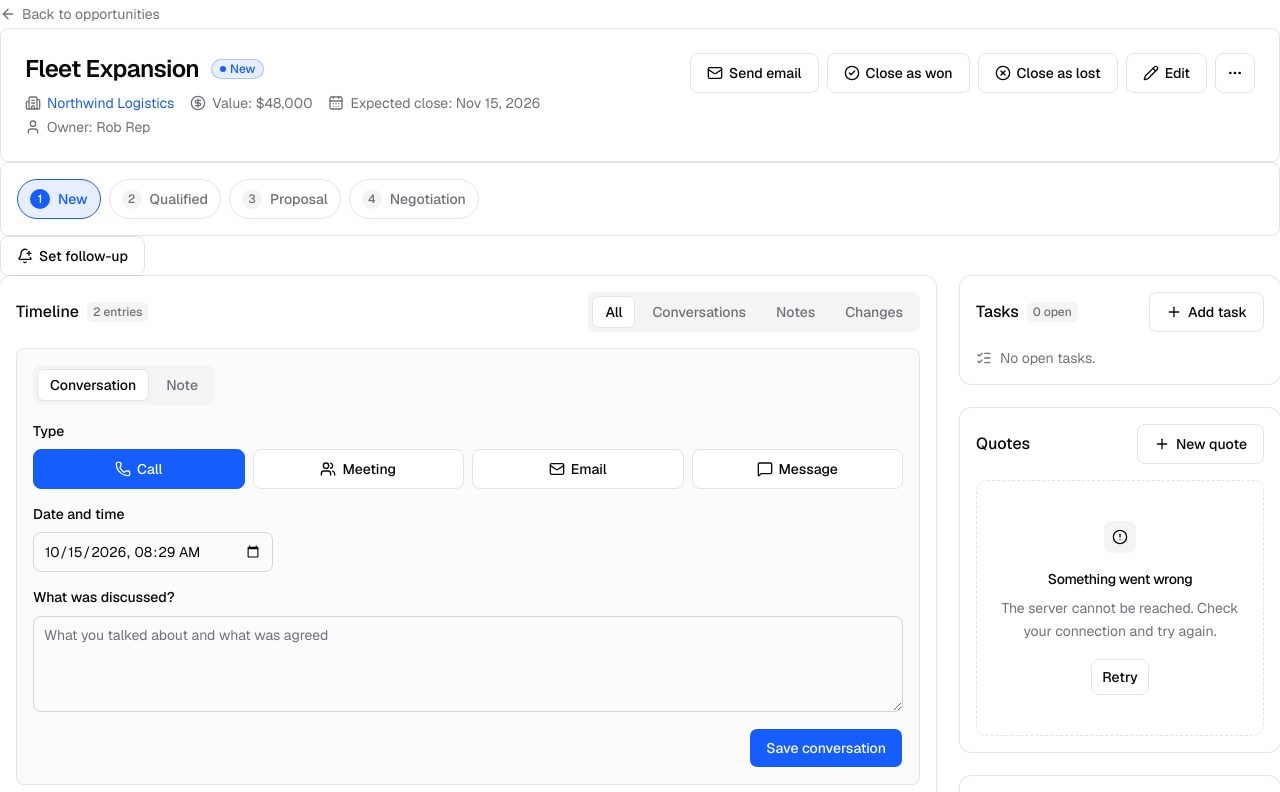
it: OpportunityDetailPage › needs a reason to close as lost, and puts the API's reason error on the field
Expected: the heading "Fleet Expansion" is shown, x1=25 y1=53 x2=199 y2=85
Expected: the navigation bar named "Stage" is shown, x1=0 y1=162 x2=1279 y2=236
Click the button "Close as lost" at (1048, 73), box x1=978 y1=53 x2=1118 y2=93
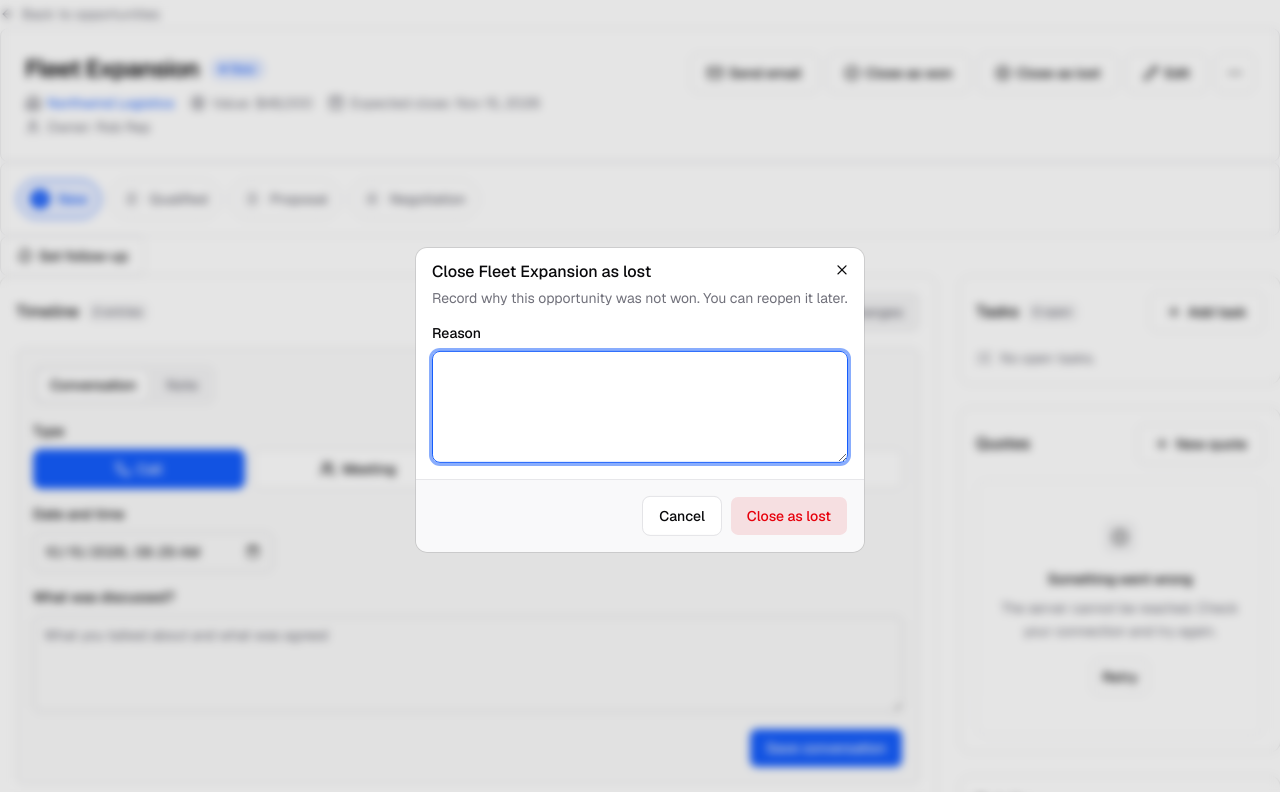
Click the button "Close as lost" at (789, 516), box x1=730 y1=496 x2=848 y2=536
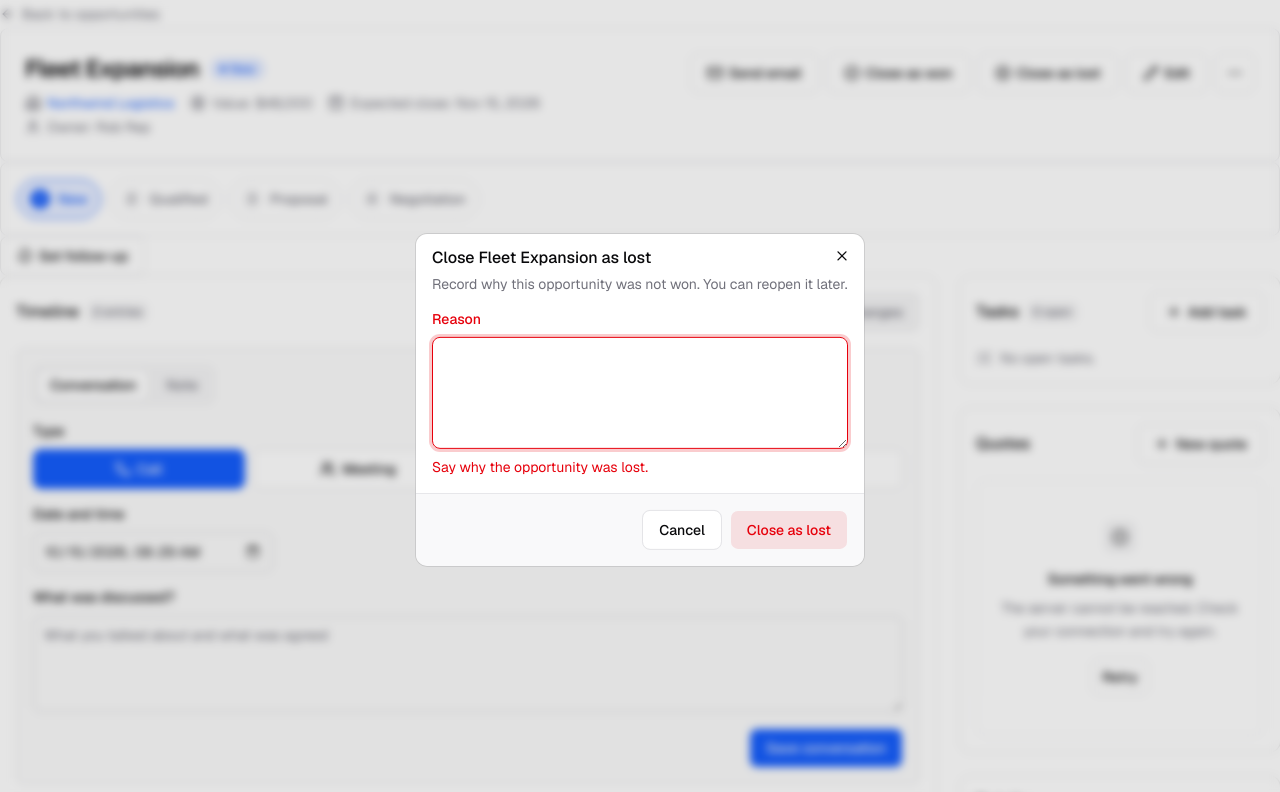
Expected: the text "Say why the opportunity was lost." is shown, x1=432 y1=458 x2=648 y2=476
Type "Price" into the text box labelled "Reason" at (640, 393), box x1=432 y1=337 x2=848 y2=449
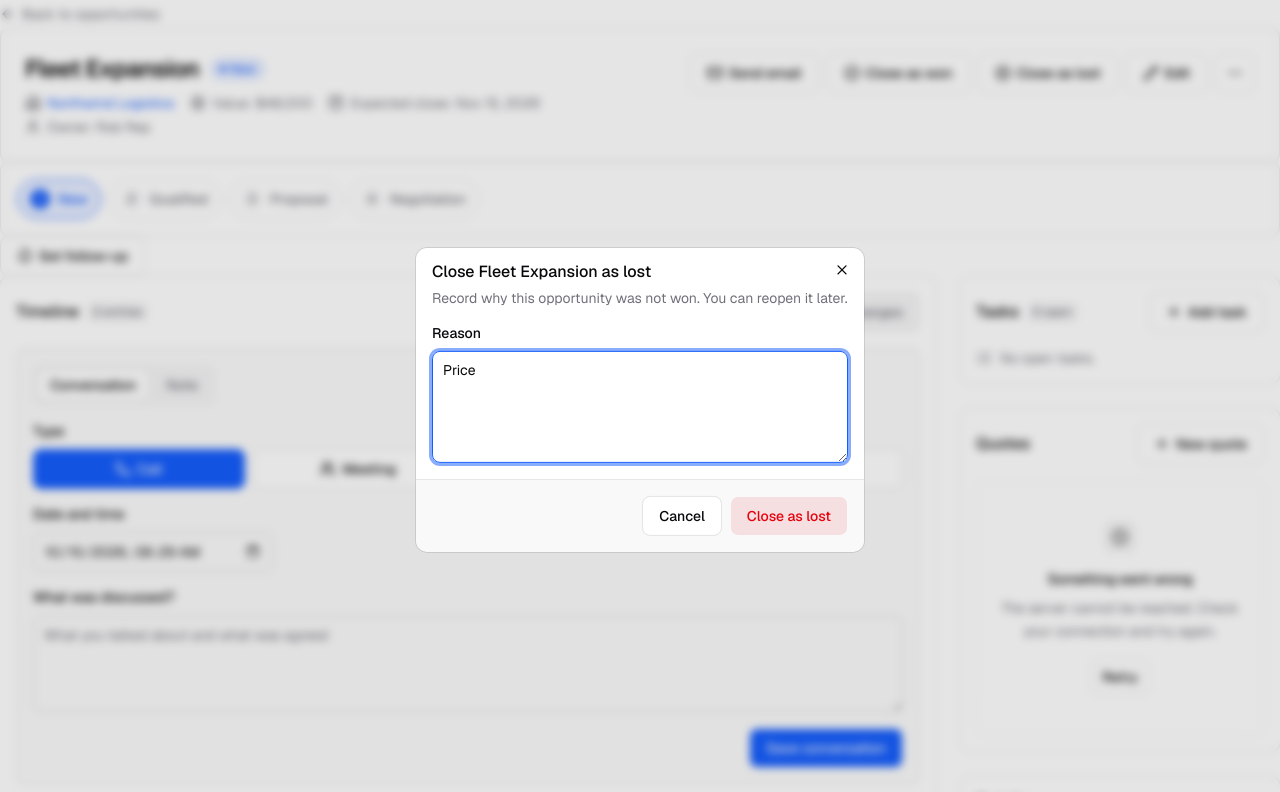
Click the button "Close as lost" at (789, 516), box x1=730 y1=496 x2=848 y2=536
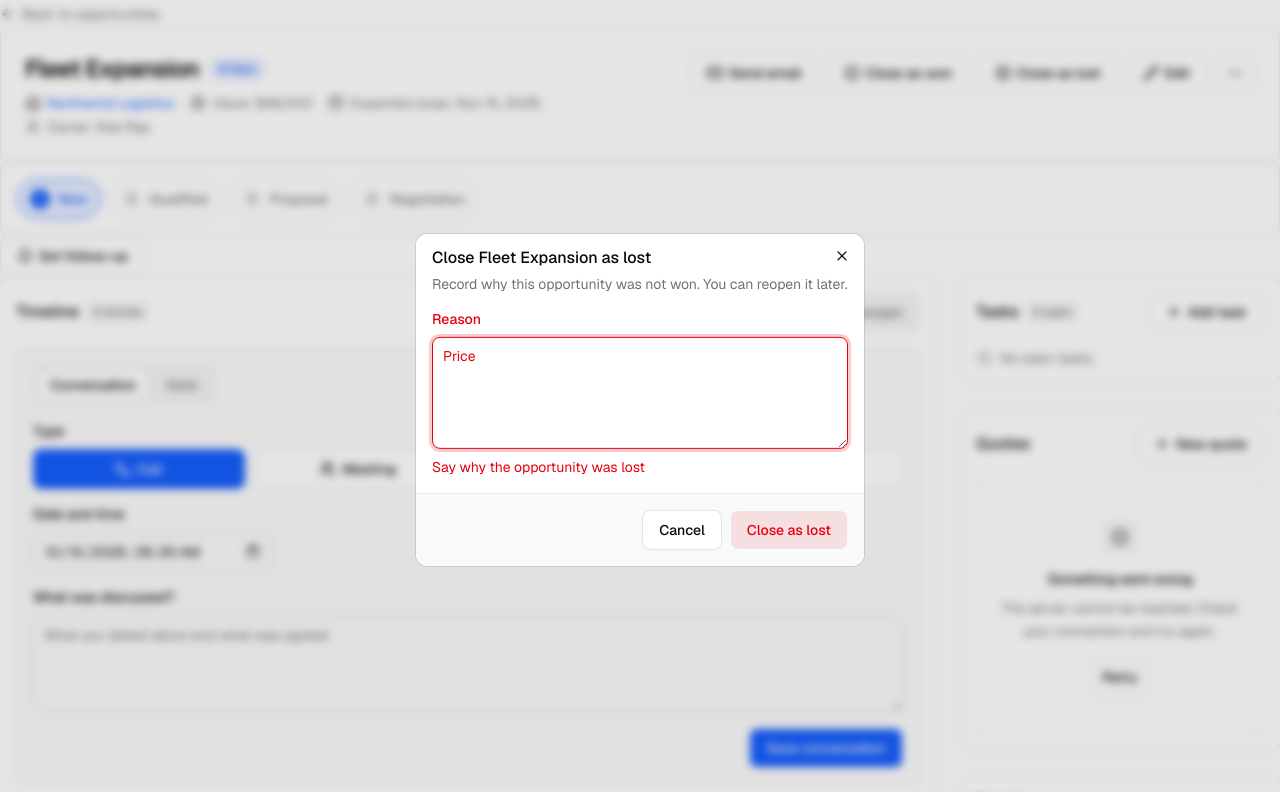
Expected: the text "Say why the opportunity was lost" is shown, x1=432 y1=458 x2=645 y2=476
